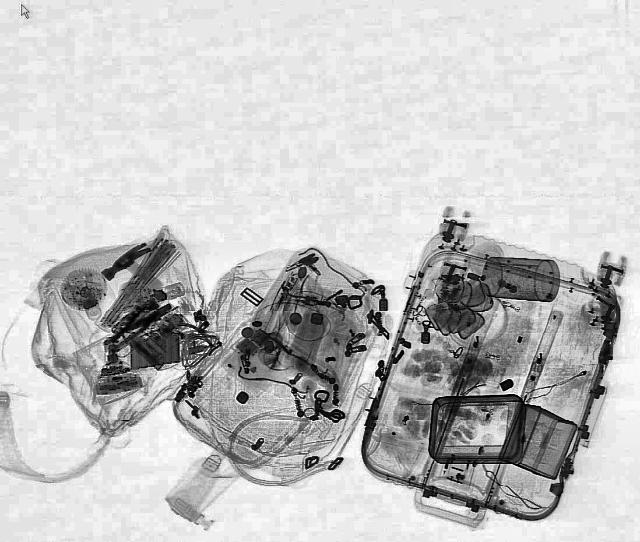Pliers: (92, 290, 176, 354)
